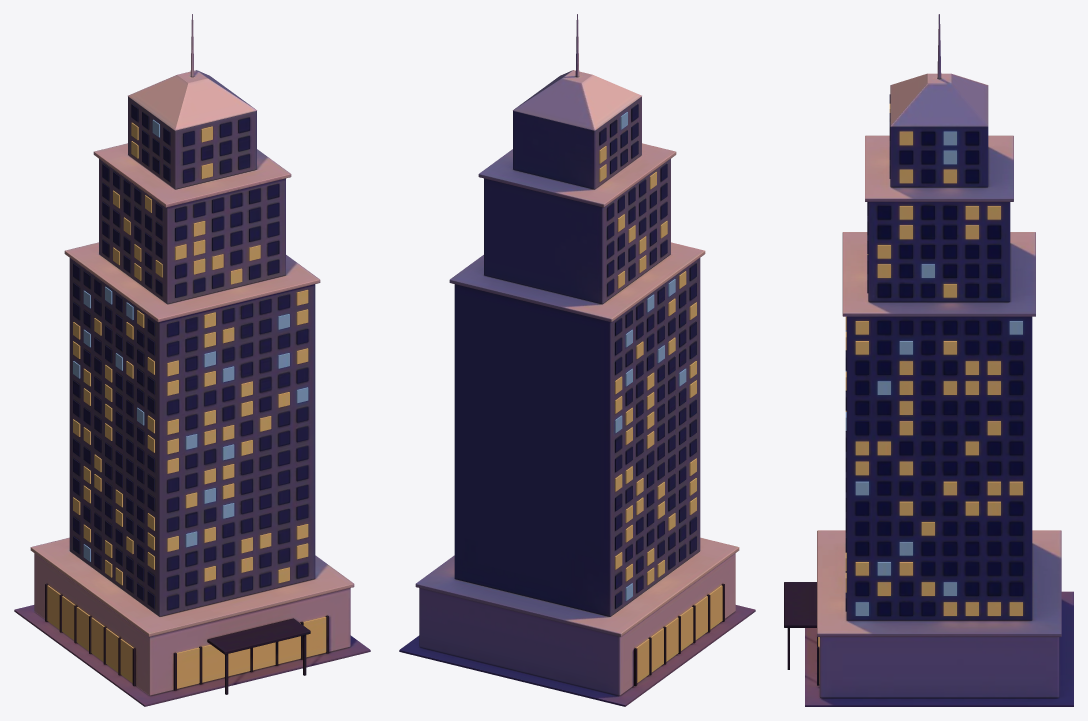
File: tower.glb
3 views of the same model, side by side, from view 1: azimuth 30°, elevation 25°; view 2: azimuth 150°, elevation 25°; view 3: azimuth 270°, elevation 25° (orthographic). The views are drawn at different scales.
Visible parts, largest first — view 1: tower; view 2: tower; view 3: tower.
Part boxes in pixels (box(x1,y1,x2,y2)): tower: box(14, 14, 370, 706); tower: box(399, 14, 755, 706); tower: box(784, 14, 1073, 706).
Size of the model in its own units: 5.5 by 14.35 by 5.92.
1 material, 1 textured.
